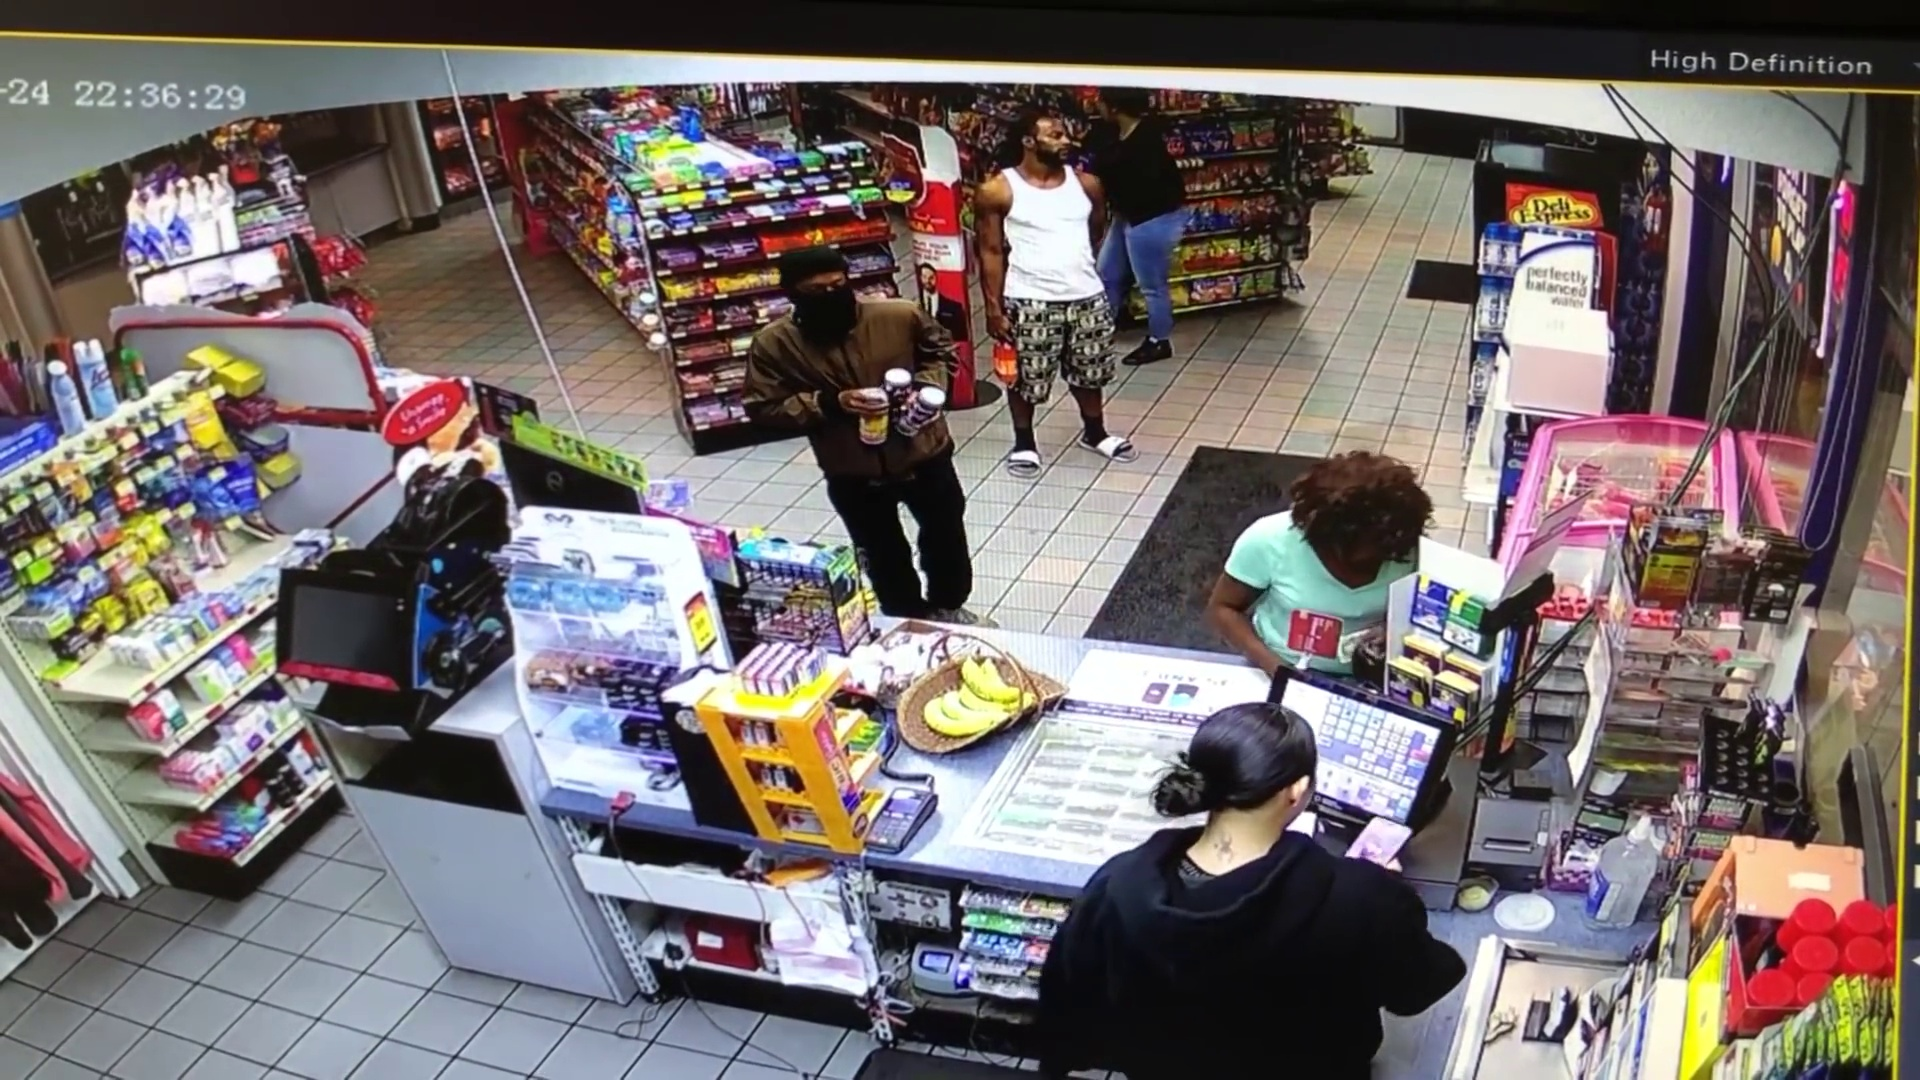face: (794, 266, 846, 314), (1031, 113, 1075, 167)
